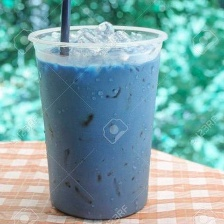drinking_straw: (56, 0, 74, 59)
glass: (24, 19, 171, 223)
